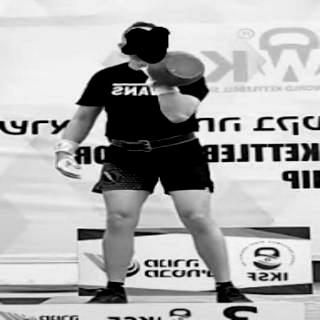kettlebell: (142, 50, 205, 86)
